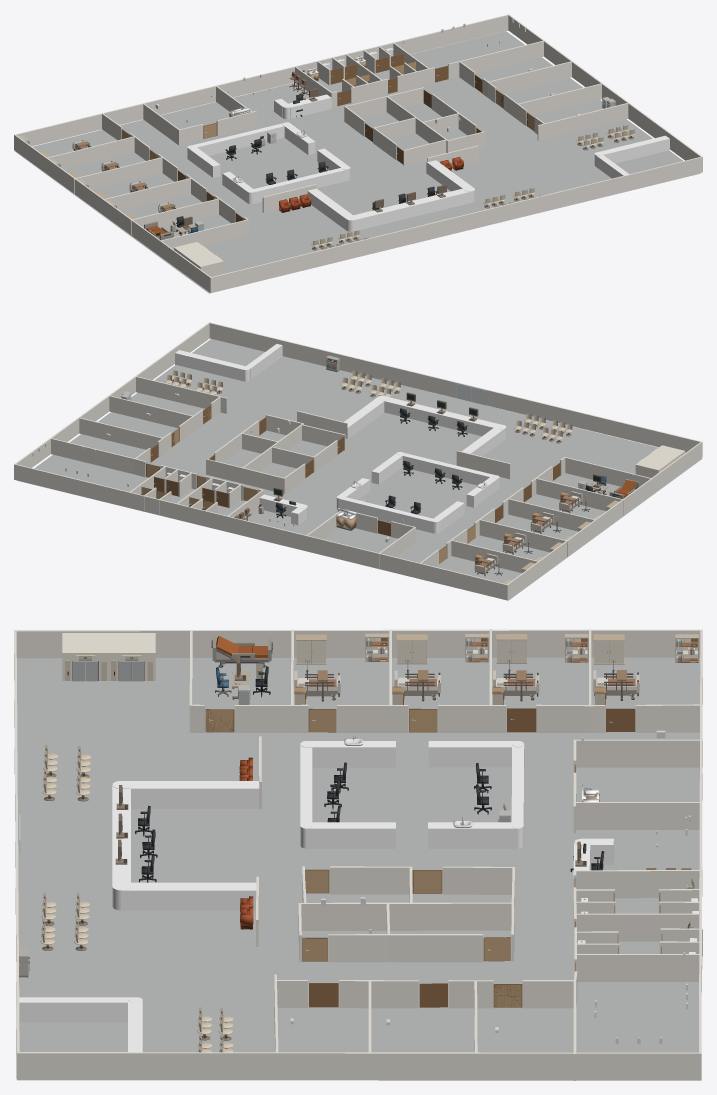
Rendered from hospital_L1_environment.glb.
The picture shows the model from 3 angles, top to bottom: view 1: azimuth 30°, elevation 25°; view 2: azimuth 150°, elevation 25°; view 3: azimuth 270°, elevation 25°; orthographic projection. The views are drawn at different scales.
Visible parts, largest first — view 1: hospital_L1__wall_1__wall_1, Hospital_Floor, Reception_Front_Body, Reception_Front_Body.001, hospital_L1__wall_2__wall_2, Reception_Front_Body.002, Reception_Left_Body.005, Reception_Left_Body, Reception_Right_Body, Reception_Front_Body.003, BEAUTY_Elevator_02_Body, Reception_Right_Body.002 (+2 smaller); view 2: hospital_L1__wall_1__wall_1, Hospital_Floor, Reception_Front_Body, hospital_L1__wall_2__wall_2, Reception_Front_Body.002, Reception_Front_Body.001, Reception_Left_Body.005, Reception_Right_Body, Reception_Left_Body, Reception_Front_Body.005, BEAUTY_Elevator_01_Body, Reception_Right_Body.001 (+3 smaller); view 3: Hospital_Floor, hospital_L1__wall_1__wall_1, Reception_Right_Body, Reception_Left_Body, Reception_Front_Body.005, Reception_Right_Body.001, Reception_Left_Body.002, Reception_Right_Body.002, Reception_Left_Body.001, BEAUTY_Elevator_01_Body, BEAUTY_Elevator_02_Body, Reception_Front_Body (+7 smaller).
Boxes of the visible parts, <box> form: hospital_L1__wall_1__wall_1: <box>14,14,702,293</box>; Hospital_Floor: <box>14,31,700,293</box>; Reception_Front_Body: <box>353,188,472,231</box>; Reception_Front_Body.001: <box>253,168,347,203</box>; hospital_L1__wall_2__wall_2: <box>262,145,478,212</box>; Reception_Front_Body.002: <box>193,123,284,155</box>; Reception_Left_Body.005: <box>598,135,669,163</box>; Reception_Left_Body: <box>307,188,354,230</box>; Reception_Right_Body: <box>426,160,472,191</box>; Reception_Front_Body.003: <box>288,94,331,118</box>; BEAUTY_Elevator_02_Body: <box>187,251,223,276</box>; Reception_Right_Body.002: <box>187,146,220,177</box>; hospital_L1__wall_1__wall_1: <box>14,322,702,600</box>; Hospital_Floor: <box>17,339,702,600</box>; Reception_Front_Body: <box>384,396,500,436</box>; hospital_L1__wall_2__wall_2: <box>297,410,510,479</box>; Reception_Front_Body.002: <box>339,497,433,533</box>; Reception_Front_Body.001: <box>402,453,493,485</box>; Reception_Left_Body.005: <box>175,350,246,381</box>; Reception_Right_Body: <box>344,398,385,438</box>; Reception_Left_Body: <box>461,426,505,456</box>; Reception_Front_Body.005: <box>246,344,282,379</box>; BEAUTY_Elevator_01_Body: <box>635,455,672,477</box>; Reception_Right_Body.001: <box>371,453,404,484</box>; Hospital_Floor: <box>16,657,700,1079</box>; hospital_L1__wall_1__wall_1: <box>14,629,702,1080</box>; Reception_Right_Body: <box>121,882,256,910</box>; Reception_Left_Body: <box>123,781,259,808</box>; Reception_Front_Body.005: <box>19,997,131,1022</box>; Reception_Right_Body.001: <box>306,822,395,848</box>; Reception_Left_Body.002: <box>428,822,517,848</box>; Reception_Right_Body.002: <box>428,741,516,767</box>; Reception_Left_Body.001: <box>306,741,395,767</box>; BEAUTY_Elevator_01_Body: <box>108,633,155,680</box>; BEAUTY_Elevator_02_Body: <box>62,633,109,680</box>; Reception_Front_Body: <box>112,785,130,885</box>.
Size of the model in its own units: 37.98 by 1.69 by 26.04.
Materials: 113 (1 with a texture image).
